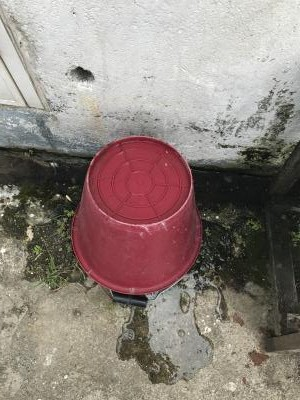bucket: (67, 133, 207, 298)
